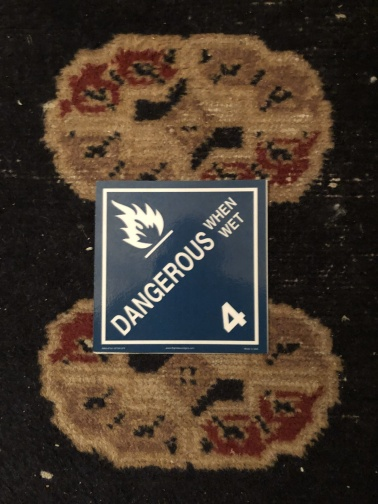DangerousWhenWet: (94, 181, 273, 351)
